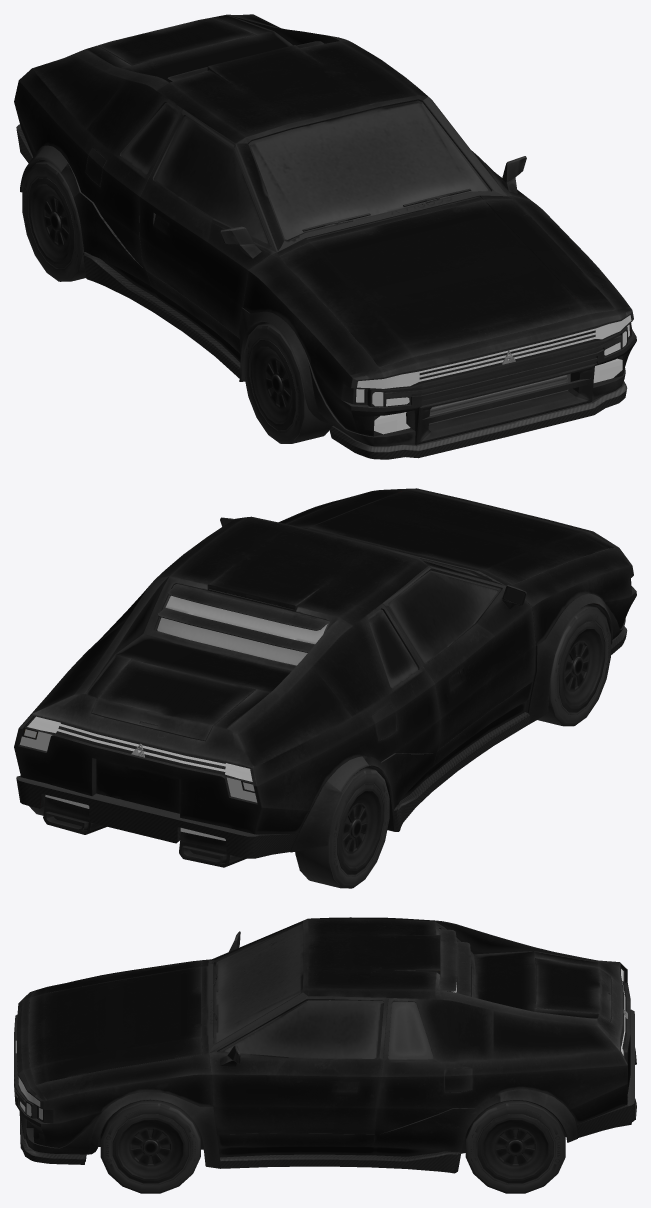
Rendered from manba_Low.fbx.
3 views of the same model, one above another, from view 1: azimuth 30°, elevation 25°; view 2: azimuth 150°, elevation 25°; view 3: azimuth 270°, elevation 25° (orthographic). The views are drawn at different scales.
Visible parts, largest first — view 1: MANBA_low; view 2: MANBA_low; view 3: MANBA_low.
Boxes of the visible parts, bbox=[...] form: MANBA_low: bbox=[14, 14, 636, 459]; MANBA_low: bbox=[14, 488, 636, 888]; MANBA_low: bbox=[14, 917, 636, 1193].
Bounding box in the file's own units: 199 × 132 × 413.
